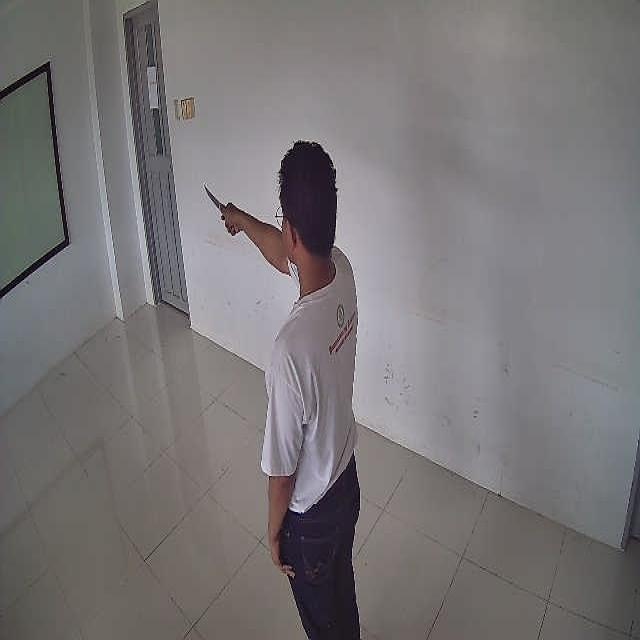knife: (203, 183, 225, 212)
